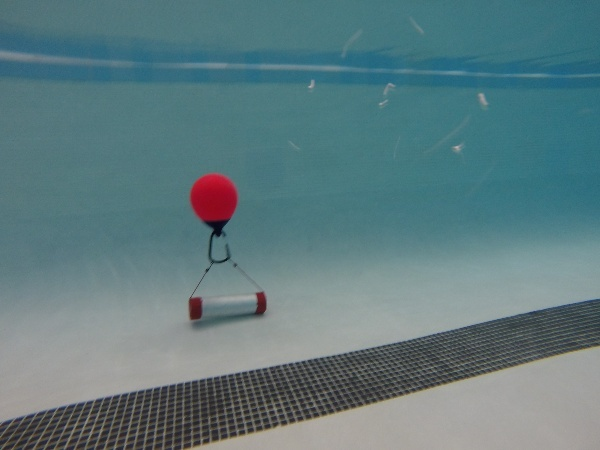buoy_red: (184, 172, 243, 235)
